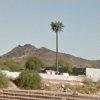Palm tree: (47, 15, 74, 80)
